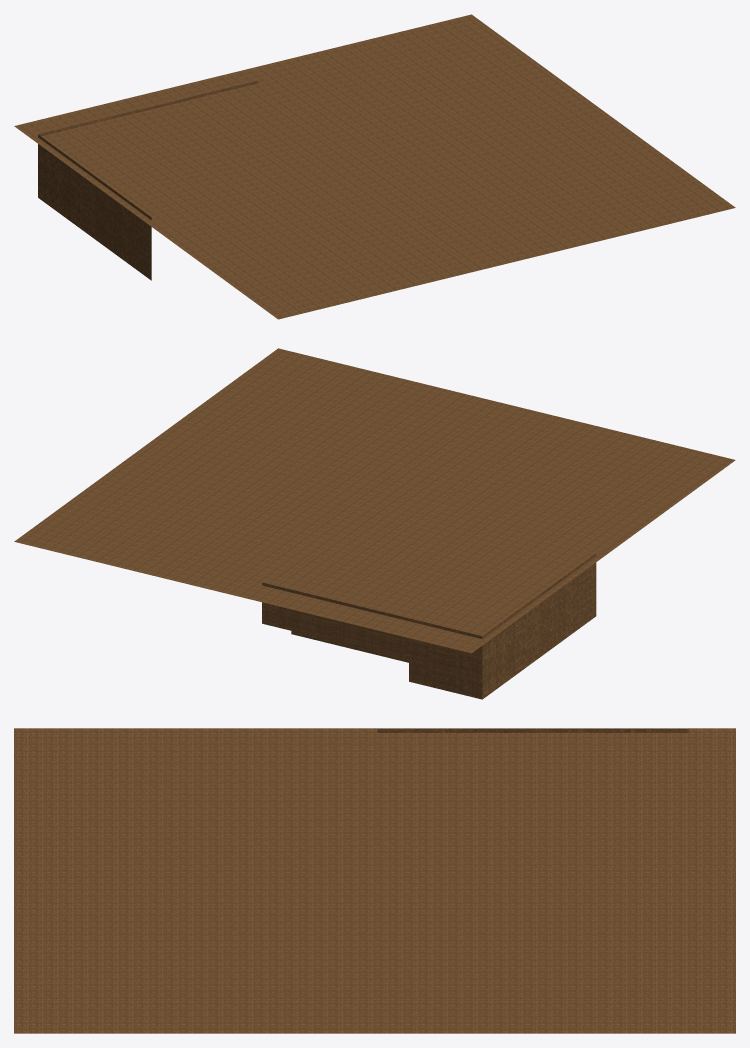
The picture shows the model from 3 angles, top to bottom: view 1: azimuth 30°, elevation 25°; view 2: azimuth 150°, elevation 25°; view 3: azimuth 270°, elevation 25°; orthographic projection. The views are drawn at different scales.
Parts seen in each view (by area): view 1: Plane, map; view 2: Plane, map; view 3: Plane, map.
Boxes of the visible parts, <box> form: Plane: <box>14,14,735,319</box>; map: <box>38,80,258,280</box>; Plane: <box>14,348,735,653</box>; map: <box>262,553,596,699</box>; Plane: <box>14,728,735,1033</box>; map: <box>377,729,688,732</box>.
Size of the model in its own units: 102 by 13.52 by 102.
Materials: 2 (2 with a texture image).
